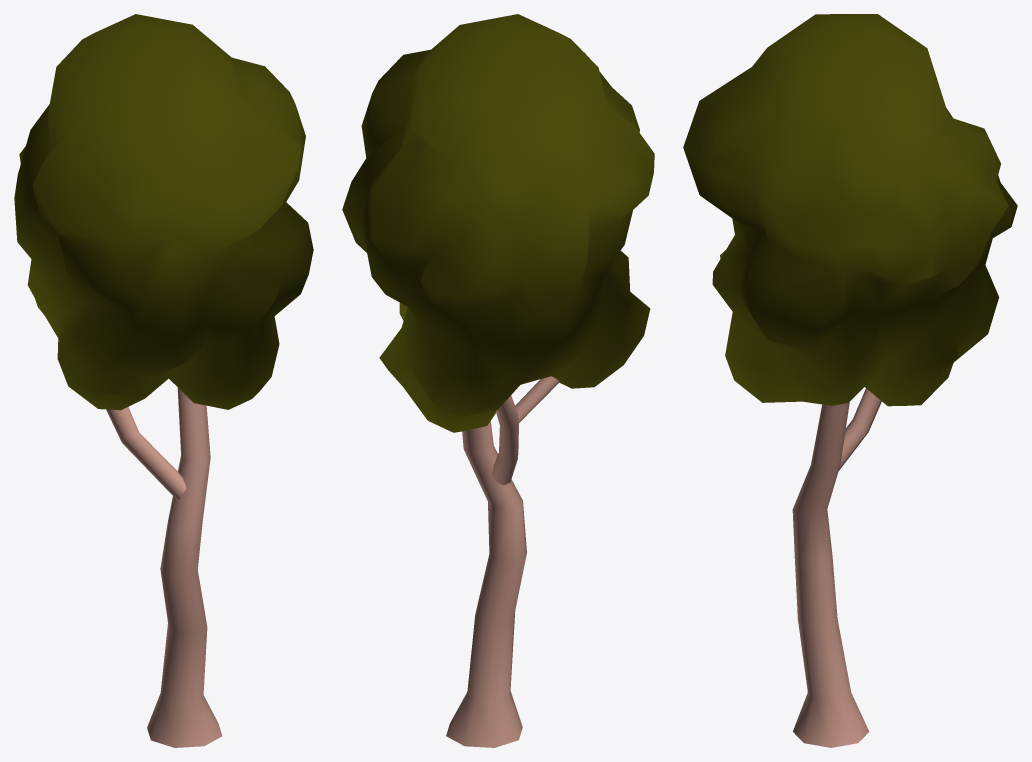
The model's file is SM_Tree_06.fbx.
The picture shows the model from 3 angles, left to right: view 1: azimuth 30°, elevation 25°; view 2: azimuth 150°, elevation 25°; view 3: azimuth 270°, elevation 25°; orthographic projection. The views are drawn at different scales.
Visible parts, largest first — view 1: SM_Tree_06_LOD0; view 2: SM_Tree_06_LOD0; view 3: SM_Tree_06_LOD0.
Part boxes in pixels (x1,y1,x2,y2): SM_Tree_06_LOD0: (14, 14, 313, 747); SM_Tree_06_LOD0: (342, 14, 654, 747); SM_Tree_06_LOD0: (683, 14, 1017, 747).
Size of what is drawn, in the model's own units: 1.62 by 4.24 by 1.85.
